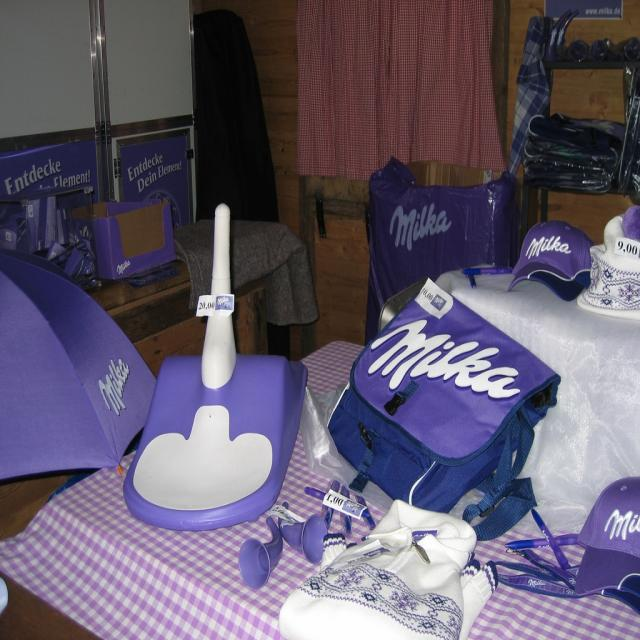milka: (365, 314, 521, 408), (386, 200, 457, 255), (96, 356, 135, 418), (601, 503, 640, 547), (525, 230, 576, 263), (117, 259, 134, 278)
